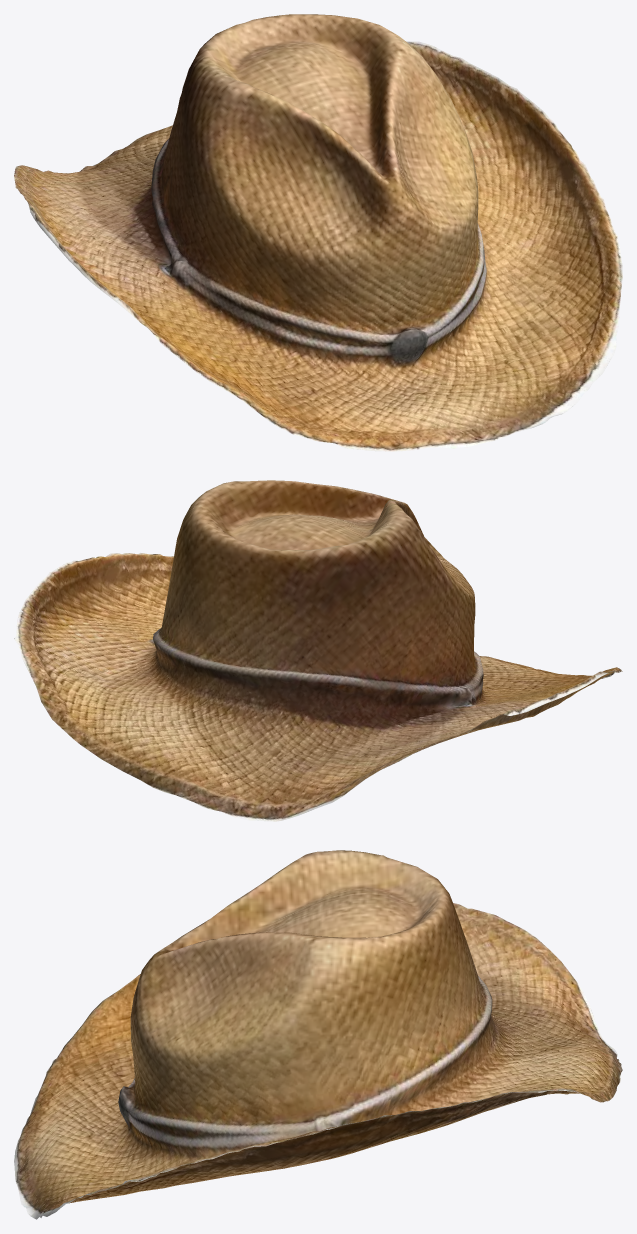
File: wear-hat.glb
The picture shows the model from 3 angles, top to bottom: view 1: azimuth 30°, elevation 25°; view 2: azimuth 150°, elevation 25°; view 3: azimuth 270°, elevation 25°; orthographic projection.
Visible parts, largest first — view 1: scan-0; view 2: scan-0; view 3: scan-0.
Part boxes in pixels (<box>): scan-0: <box>14,14,622,451</box>; scan-0: <box>14,480,622,821</box>; scan-0: <box>14,850,622,1219</box>.
Size of the model in its own units: 0.3363 by 0.1812 by 0.3631.
Materials: 1 (1 with a texture image).
